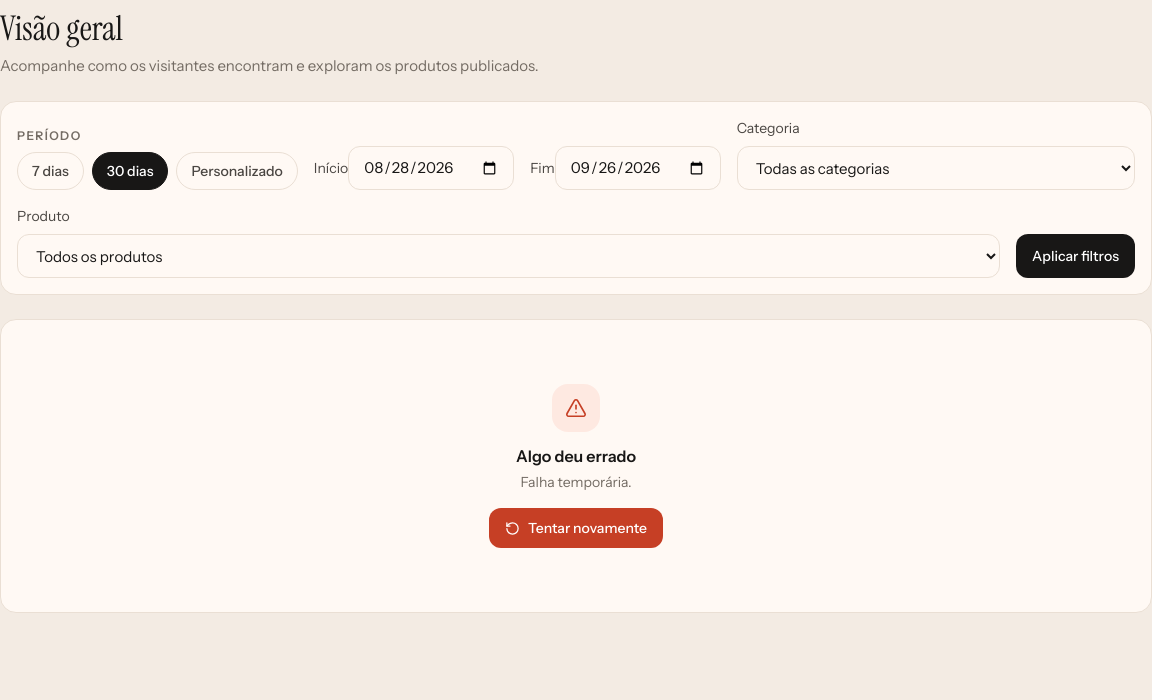
Test: AnalyticsDashboard › shows an error and retries the request
Expected: the text "Falha temporária." is shown, top-left (516, 472), bottom-right (636, 492)
Click the button "Tentar novamente": (576, 528) top-left (489, 508), bottom-right (663, 548)
(page scrolled)
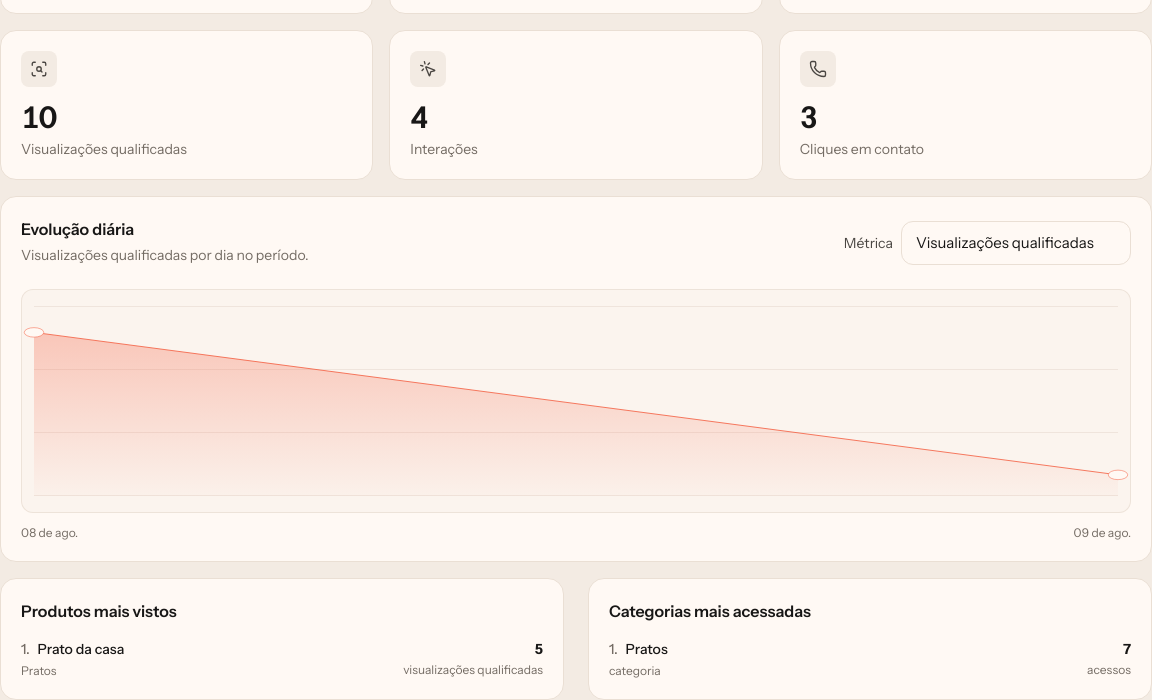
Expected: the heading "Produtos mais vistos" is shown, top-left (21, 601), bottom-right (177, 621)
